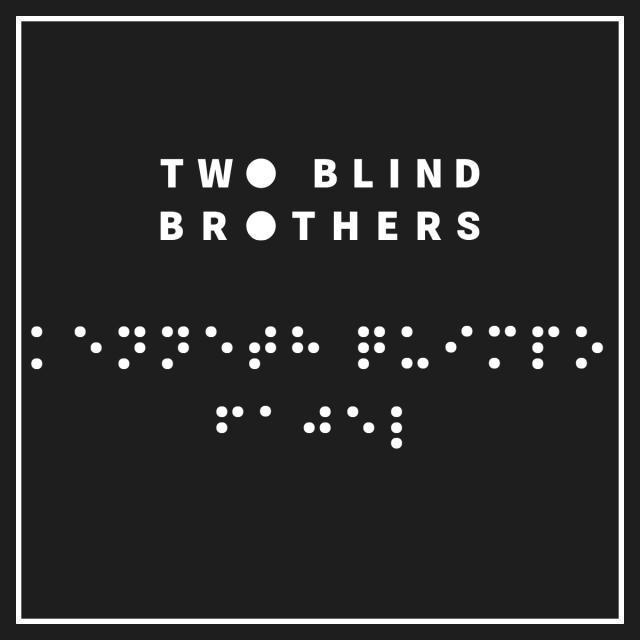braiile: (387, 402, 426, 455), (526, 322, 564, 374), (298, 400, 336, 452), (441, 318, 476, 372), (156, 322, 193, 372), (286, 322, 322, 373), (398, 320, 433, 372), (344, 400, 378, 453), (28, 324, 64, 374), (114, 324, 150, 374), (71, 323, 105, 375), (245, 322, 280, 372), (354, 322, 389, 372), (256, 402, 291, 452), (202, 322, 236, 372), (485, 322, 519, 372), (215, 402, 248, 452), (572, 321, 604, 369)
